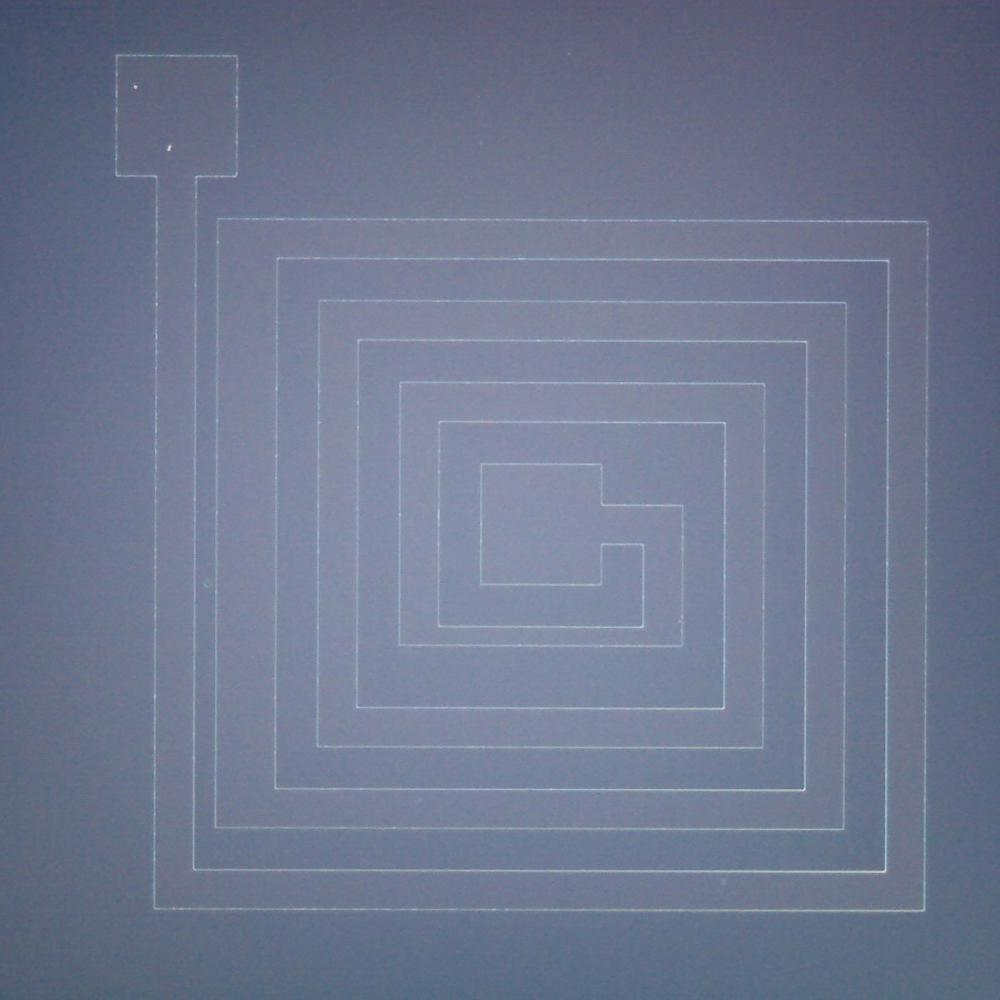dot: (166, 144, 173, 152), (134, 85, 138, 89)
